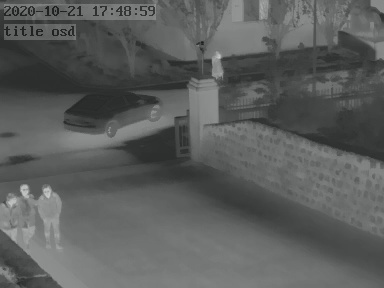person: (39, 183, 65, 248), (18, 181, 41, 246), (1, 184, 23, 242), (212, 53, 224, 79)
vehicle: (65, 88, 160, 138)
